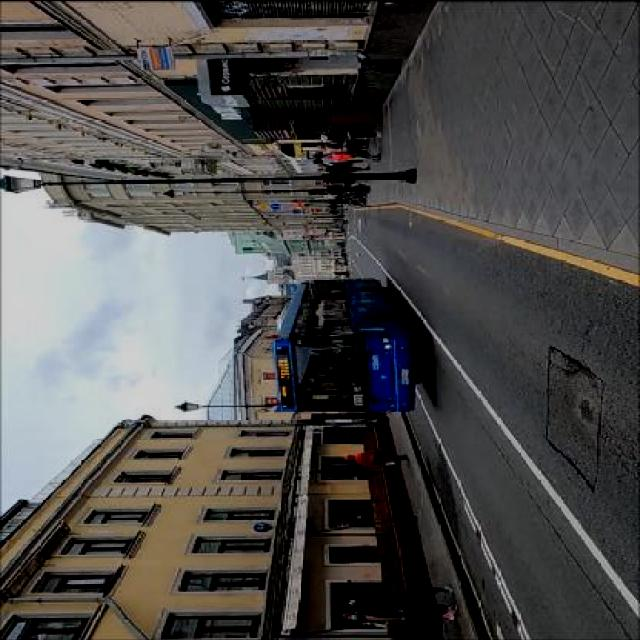bus: (272, 280, 426, 414)
